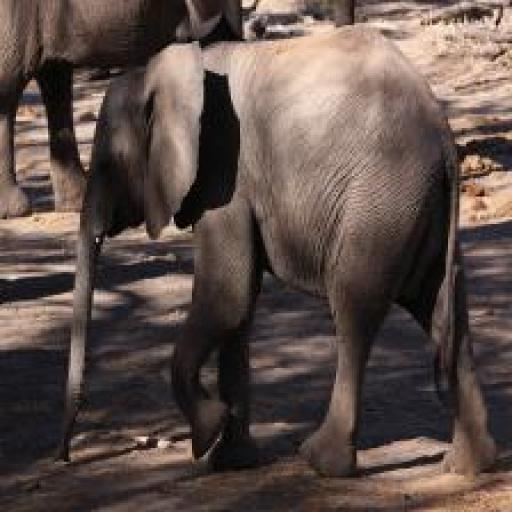Elephant: (55, 23, 503, 476), (0, 2, 257, 221)
